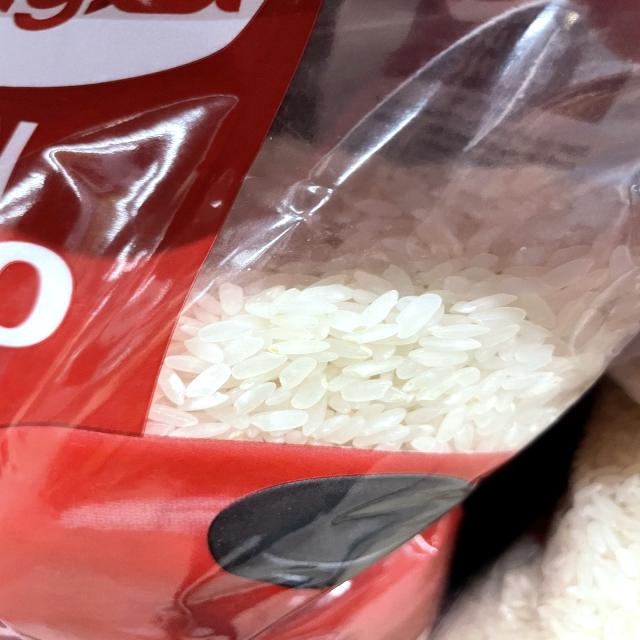rice: (268, 191, 521, 401)
